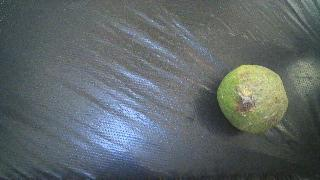DESECHO: (217, 65, 288, 133)
